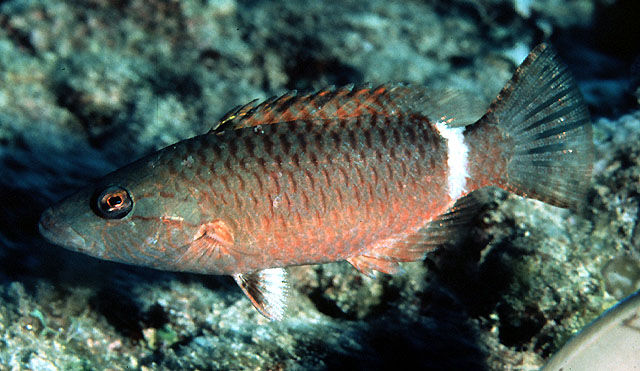fish: (38, 40, 594, 319)
